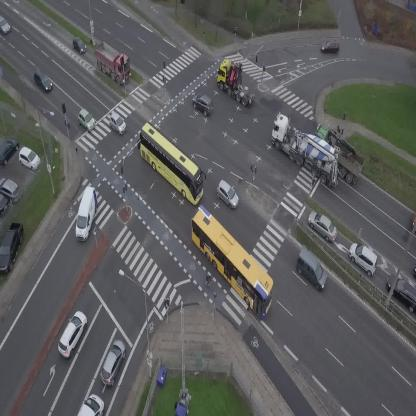bicycle: (202, 272, 213, 294)
bus: (175, 204, 287, 319), (125, 121, 217, 207)
car: (288, 247, 334, 292), (53, 308, 92, 359), (97, 337, 130, 388), (343, 238, 385, 278), (303, 207, 343, 244), (211, 178, 244, 210), (188, 90, 217, 118), (29, 67, 55, 94), (73, 108, 99, 133), (105, 111, 130, 136), (68, 34, 89, 57), (322, 39, 341, 53), (0, 15, 10, 34)
lorry: (259, 111, 356, 192), (307, 119, 371, 187), (208, 52, 268, 109), (85, 36, 140, 87), (70, 185, 103, 242), (77, 394, 104, 416)
